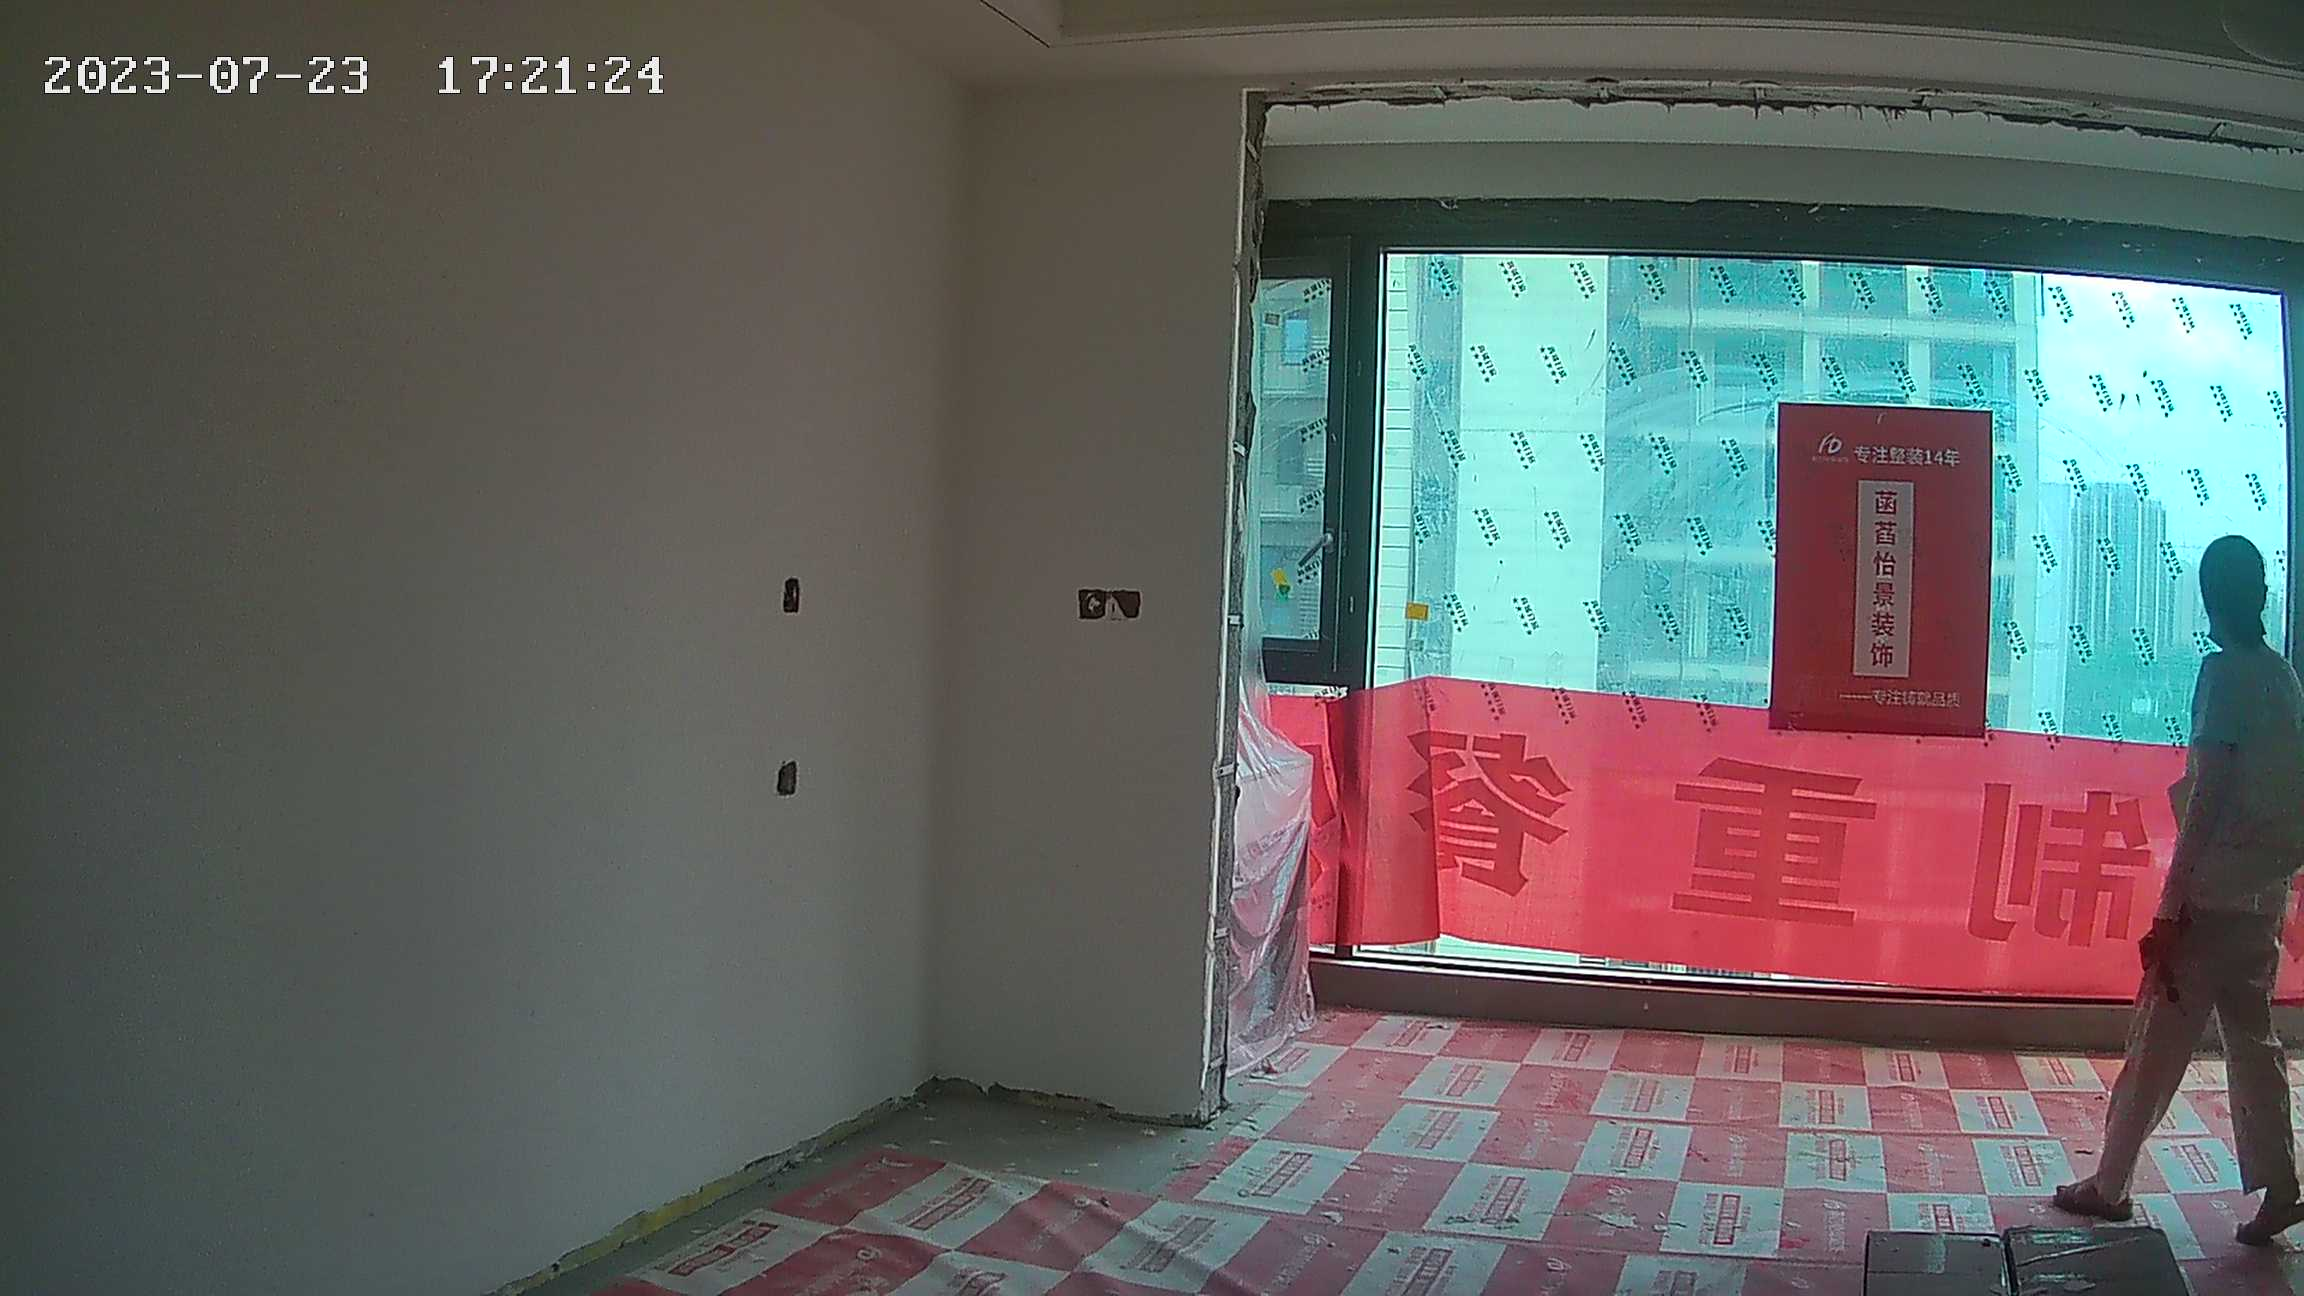people: (2080, 532, 2304, 1265)
window: (1263, 221, 2304, 1003)
